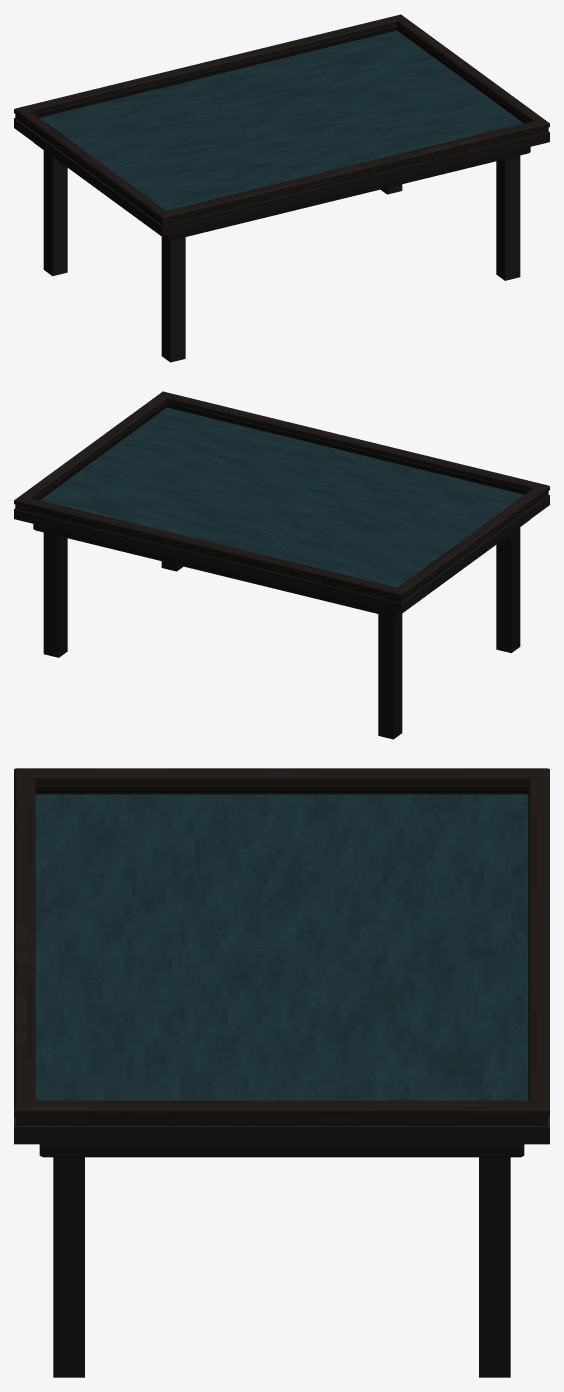
Rendered from TimeTheft_Table_T3.fbx.
3 views of the same model, one above another, from view 1: azimuth 30°, elevation 25°; view 2: azimuth 150°, elevation 25°; view 3: azimuth 270°, elevation 25° (orthographic). The views are drawn at different scales.
Parts seen in each view (by area): view 1: Tabletop, Rim_UpperCap, Rim_LowerReceiver, Leg_FrontLeft, Leg_FrontRight, Leg_BackLeft, LowerFrame, SideBody; view 2: Tabletop, Rim_UpperCap, Rim_LowerReceiver, Leg_BackLeft, Leg_BackRight, Leg_FrontLeft, LowerFrame, SideBody; view 3: Tabletop, Rim_UpperCap, Rim_LowerReceiver, Leg_BackRight, Leg_FrontRight, SideBody, LowerFrame.
Part boxes in pixels (x1,y1,x2,y2): Tabletop: (14, 30, 549, 236); Rim_UpperCap: (14, 14, 549, 221); Rim_LowerReceiver: (15, 25, 548, 225); Leg_FrontLeft: (161, 237, 185, 362); Leg_FrontRight: (496, 155, 520, 280); Leg_BackLeft: (43, 150, 67, 276); LowerFrame: (34, 143, 530, 241); SideBody: (165, 147, 530, 238); Tabletop: (14, 407, 549, 613); Rim_UpperCap: (14, 391, 549, 598); Rim_LowerReceiver: (15, 402, 548, 602); Leg_BackLeft: (378, 614, 402, 739); Leg_BackRight: (43, 532, 67, 657); Leg_FrontLeft: (496, 527, 520, 653); LowerFrame: (33, 520, 529, 618); SideBody: (33, 524, 398, 615); Tabletop: (14, 794, 549, 1144); Rim_UpperCap: (14, 768, 549, 1117); Rim_LowerReceiver: (15, 785, 548, 1125); Leg_BackRight: (479, 1157, 510, 1377); Leg_FrontRight: (53, 1157, 84, 1377); SideBody: (39, 1144, 524, 1151); LowerFrame: (39, 1151, 524, 1157).
Bounding box in the file's own units: 2.05 × 0.8 × 1.36.
